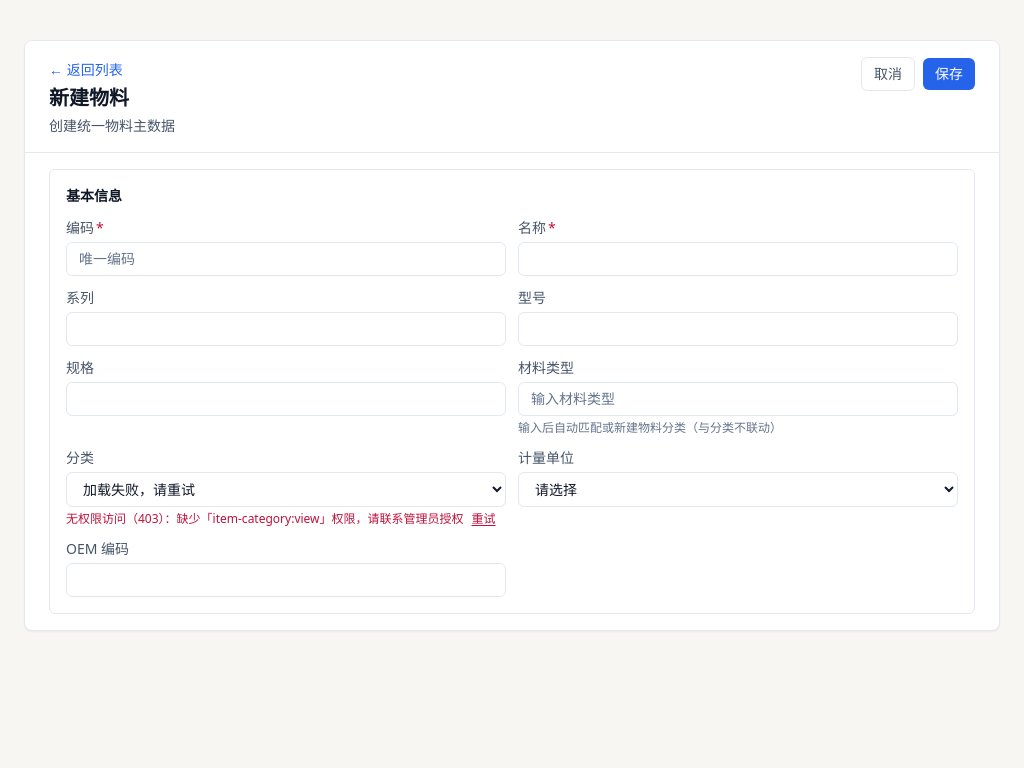
Test case: Items Create — 第 3 轮表单（类型=材质分类 + 引用源独立加载） › 分类 403：计量单位不受影响；分类显示真实原因（含权限码）并可单独重试
Check: the heading "新建物料" is shown, box [49,84,129,111]
Check: the number of messages is 1, box [66,511,506,527]
What coordinates should you click on to do the following:
click the button "重试"
I would click on:
 (484, 519)
Its box is [472,511,496,527].
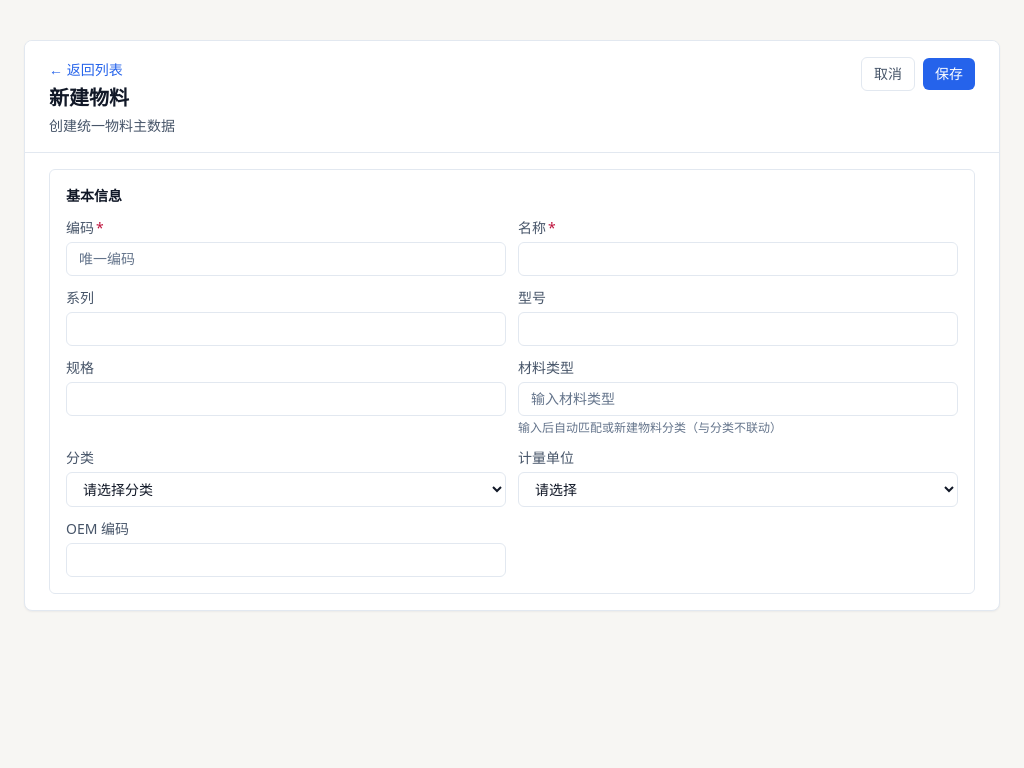
Check: no messages are shown
